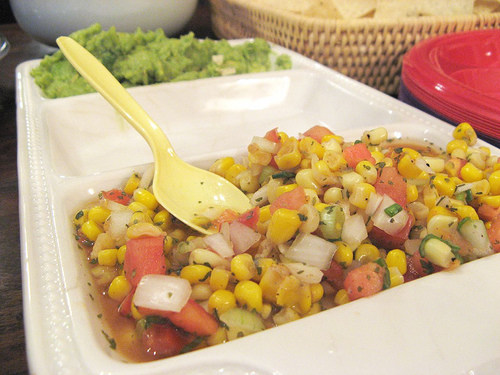corn: (66, 119, 499, 348)
